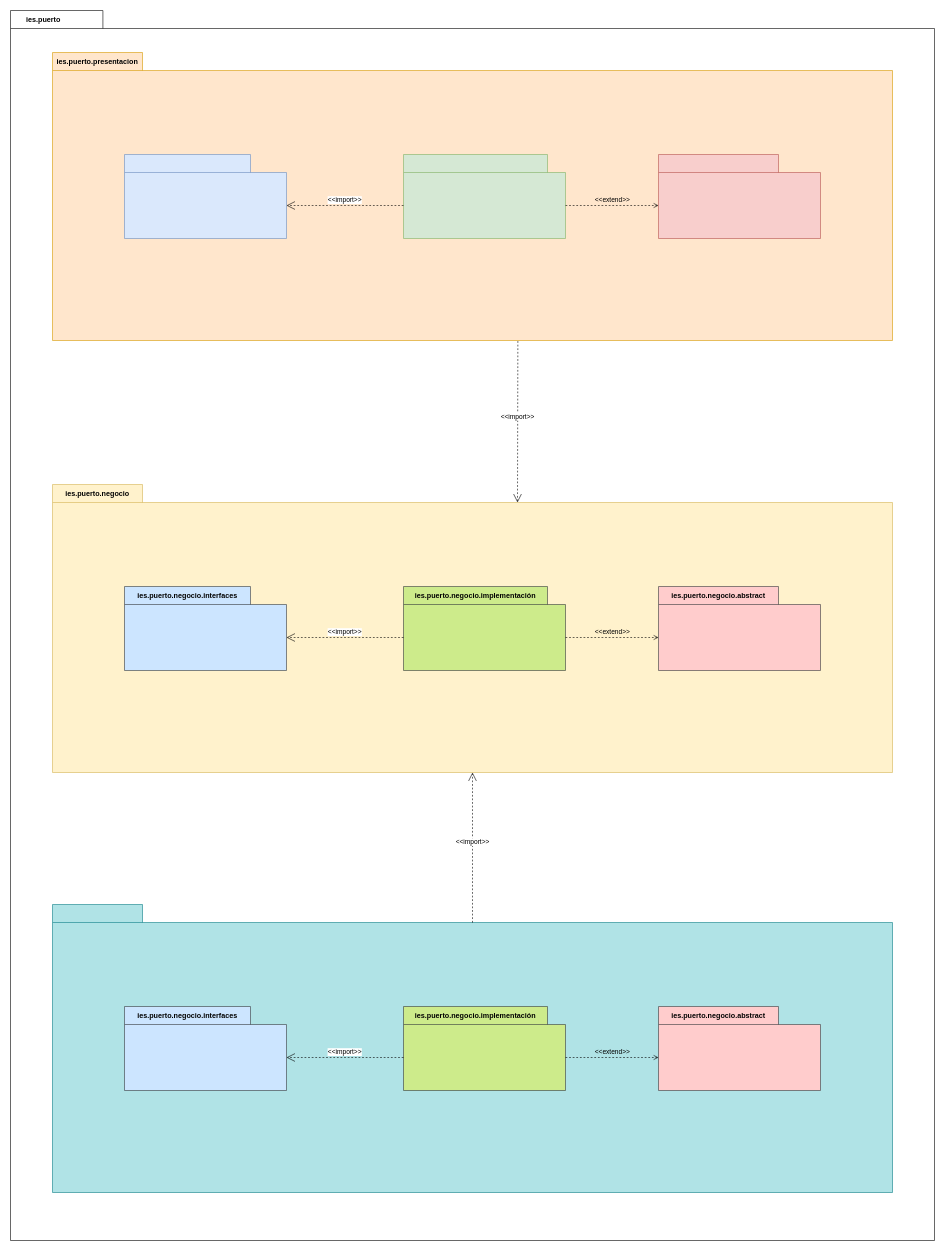
Image size: 945x1251. Some labels were removed from this diagram. Each missing label, with the box of its shape:
ies.puerto.datos: (52, 904, 892, 1192)
ies.puerto.presentacion.abstract: (658, 154, 820, 238)
ies.puerto.presentacion.implementación: (403, 154, 566, 238)
ies.puerto.presentacion.interfaces: (124, 154, 286, 238)
